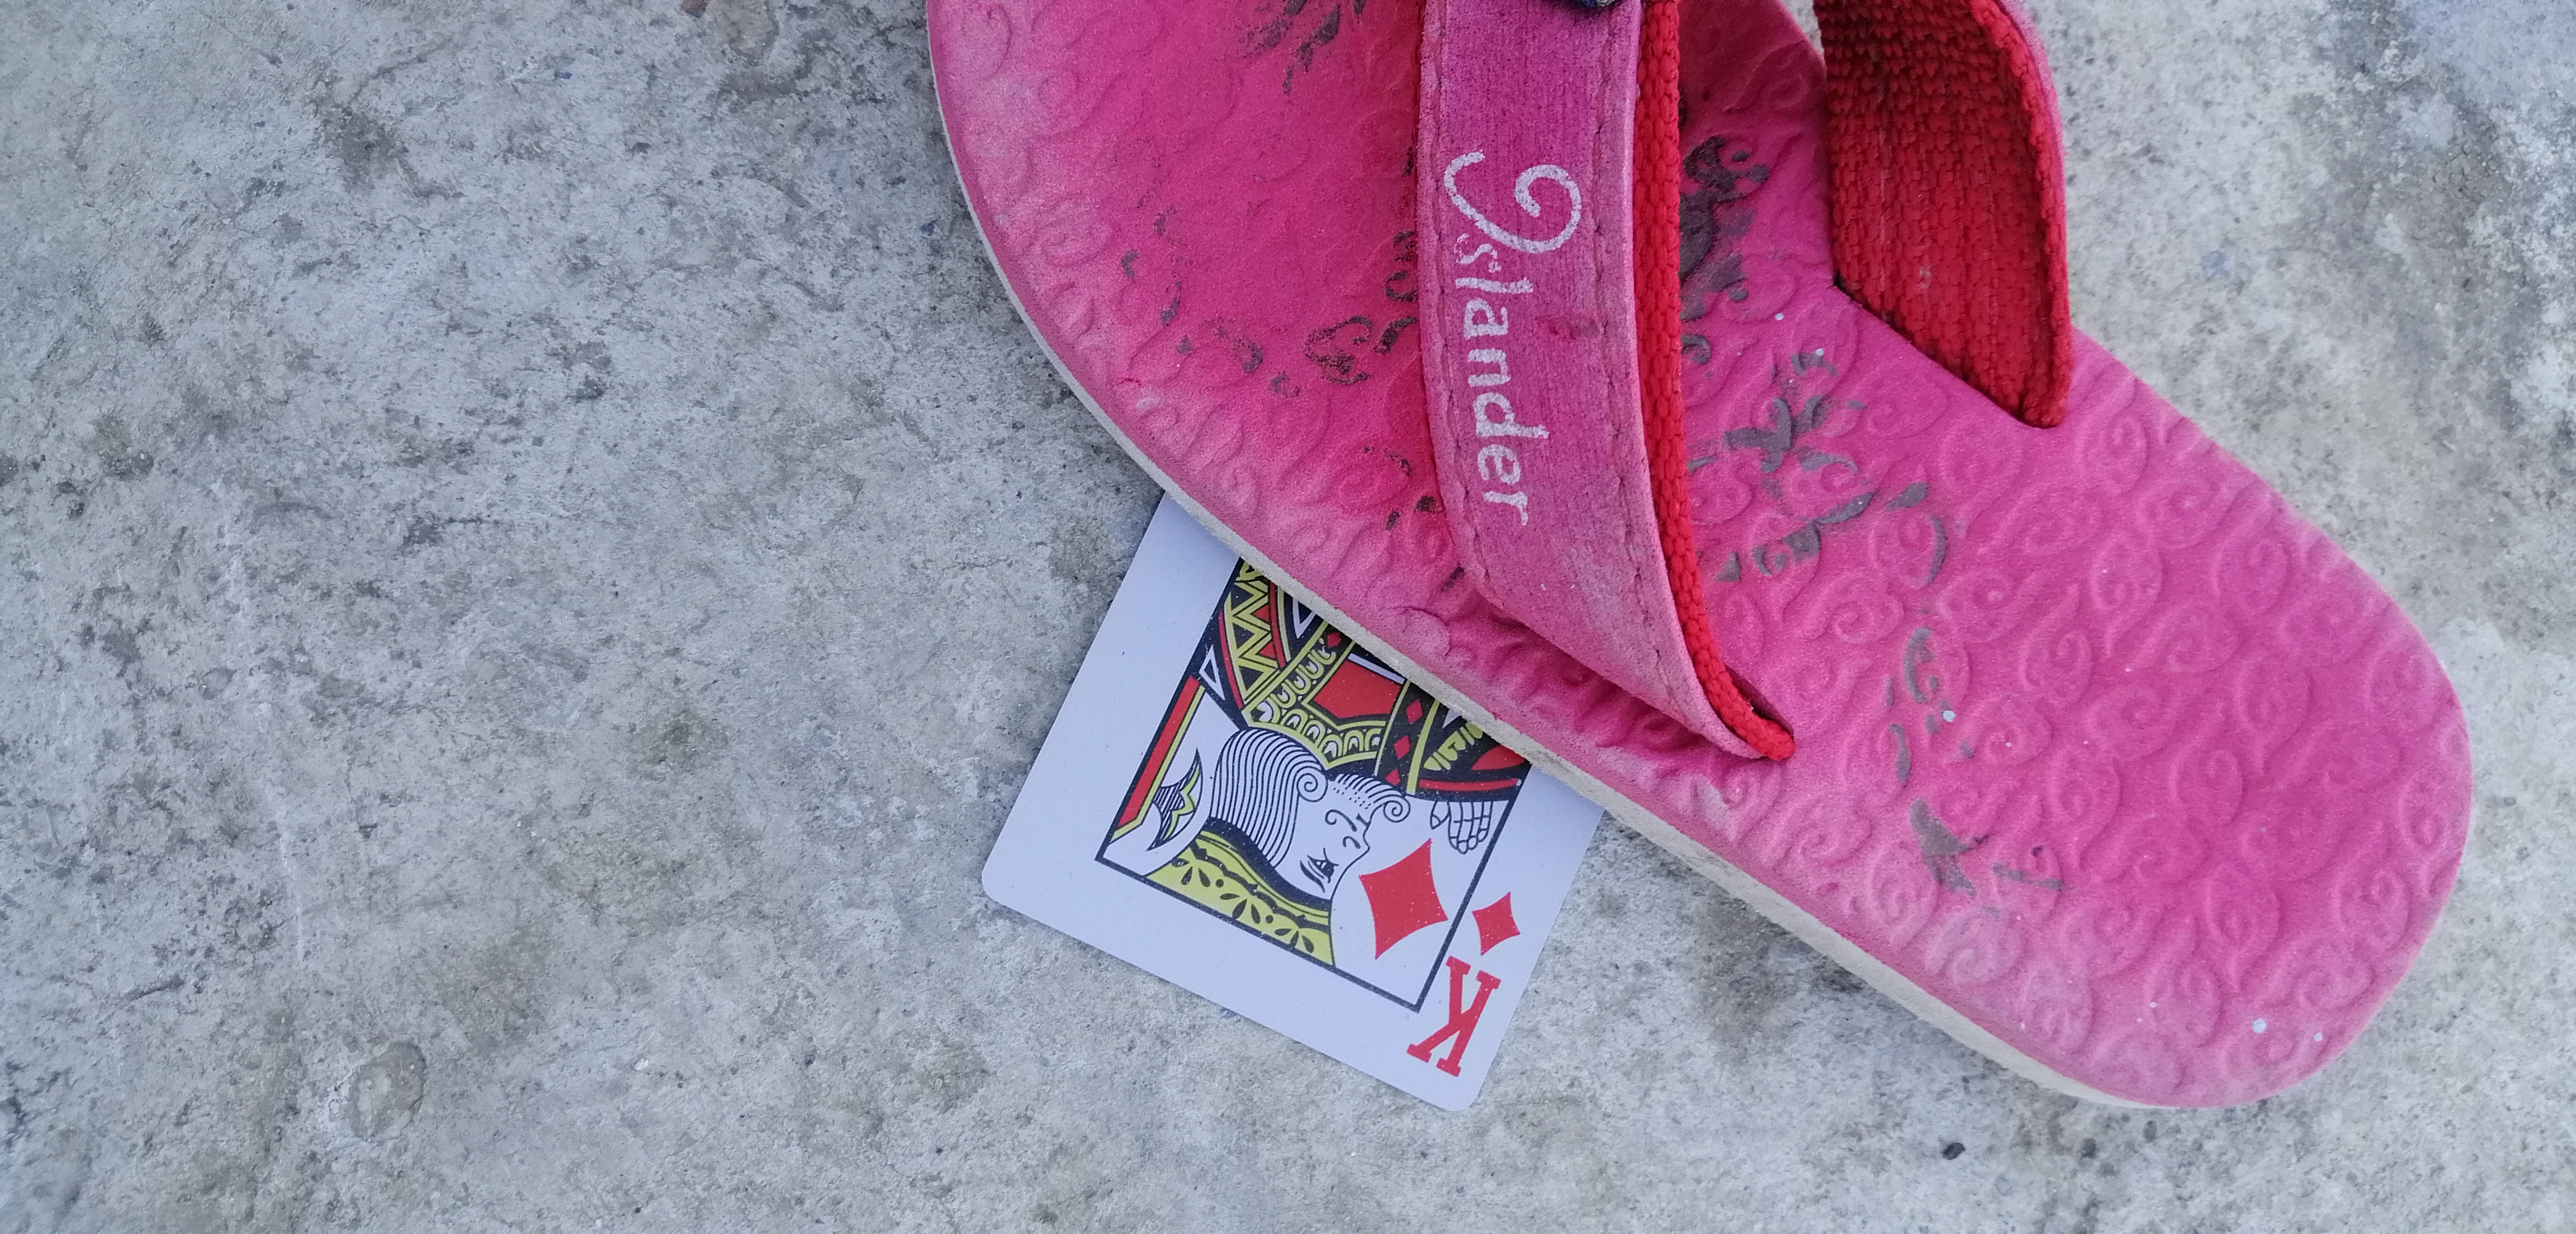king: (930, 452, 1626, 1144)
